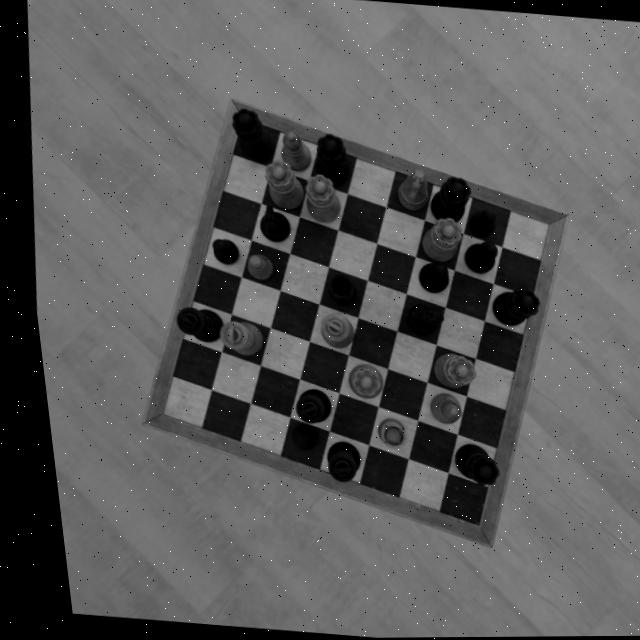chessboard: (153, 120, 544, 524)
